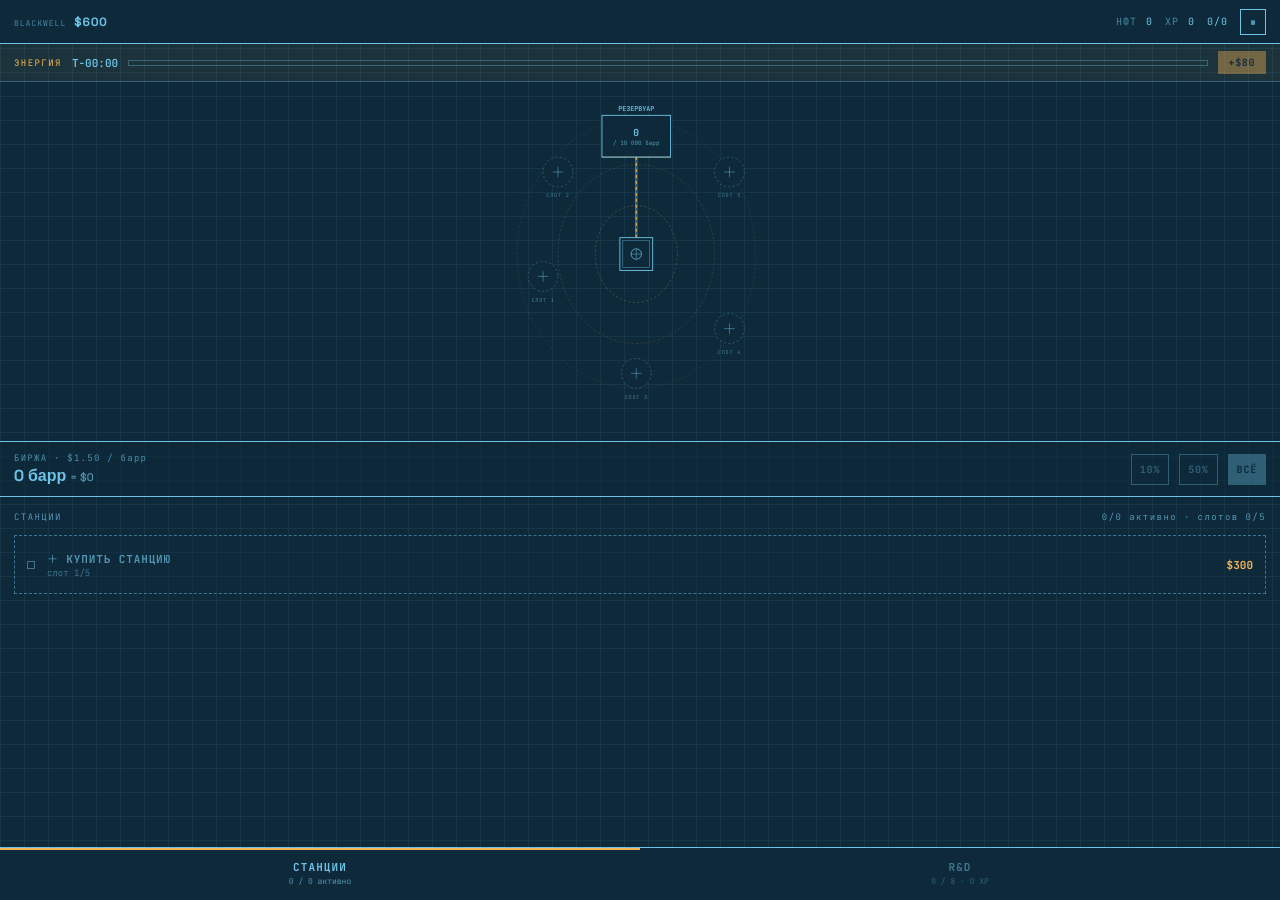
Test case: MobileApp › switches to R&D tab when clicked, showing research list heading
Expected: the text "ИССЛЕДОВАНИЯ" is not shown
Click the button "R&D 0 / 8 · 0 XP": (960, 874) [640,848,1279,899]
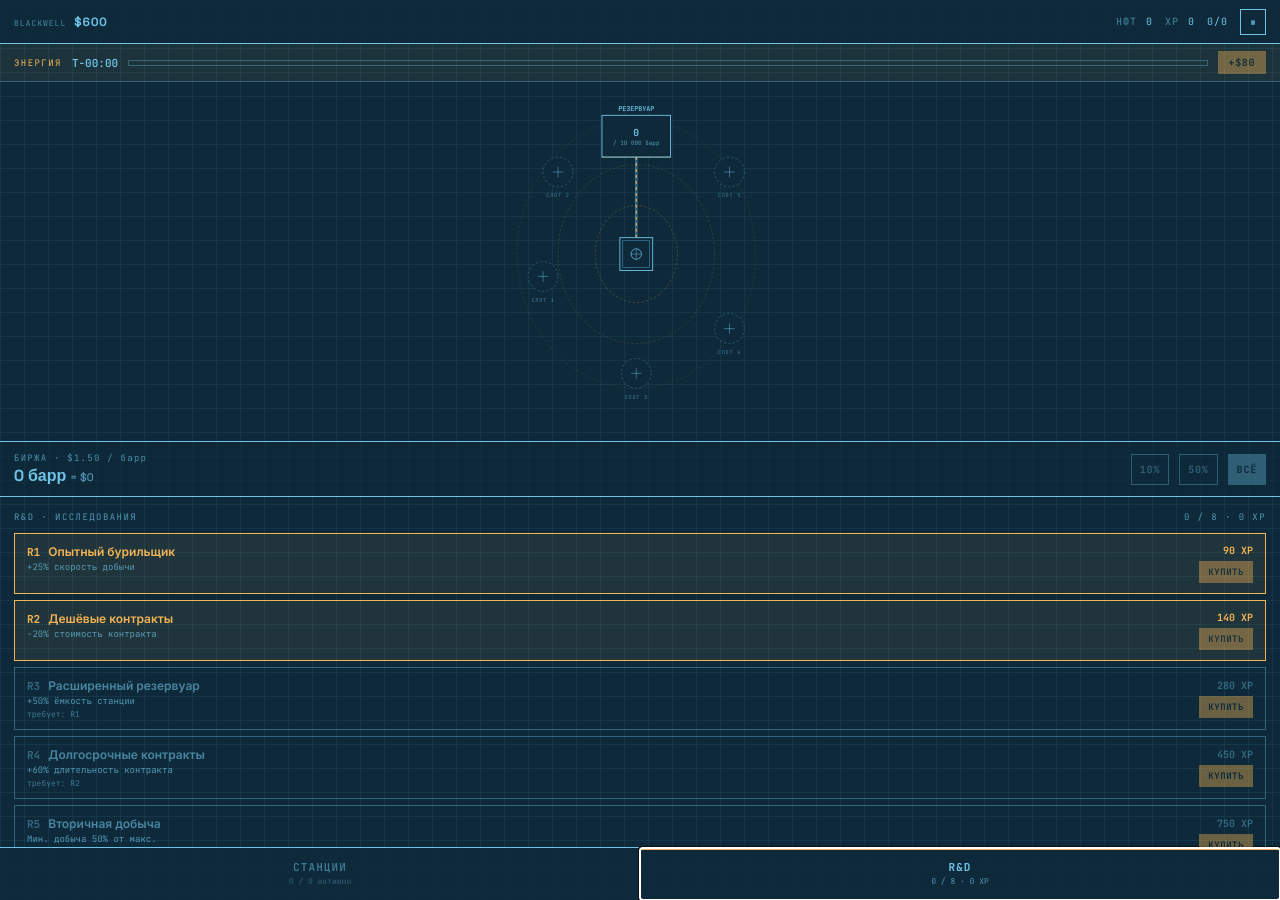
Result: the text "R&D · ИССЛЕДОВАНИЯ" is shown at [14,511,137,523]
